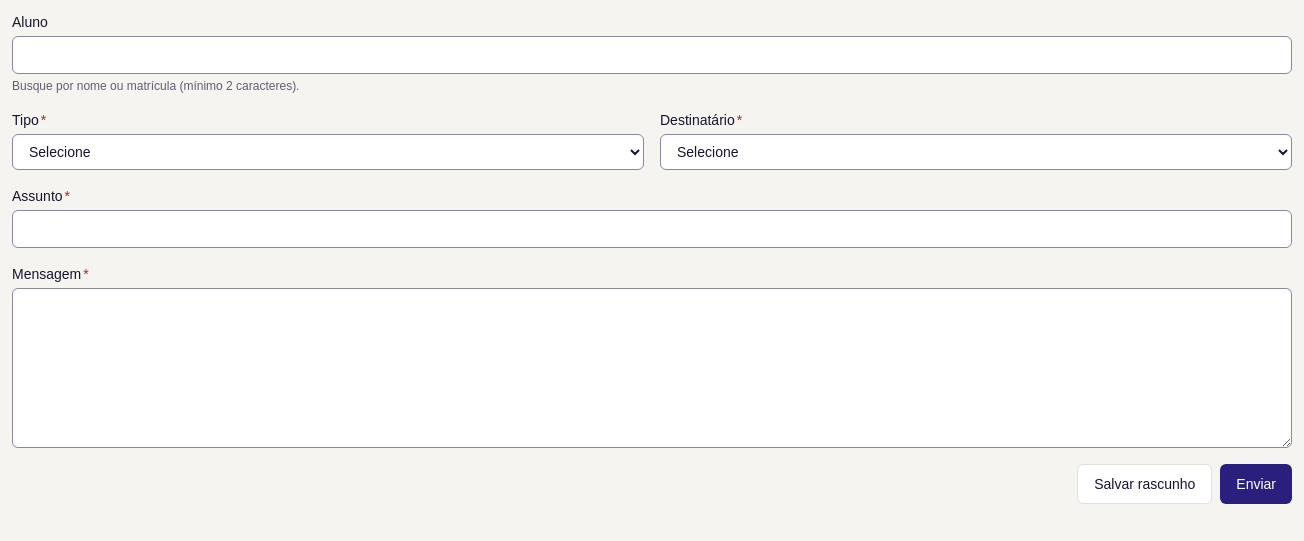
Test: EscreverMensagem › Enviar_sem_destinatario_pede_o_destinatario
The width and height of the screenshot is (1304, 541).
Select "Aviso" in the dropdown labelled "Tipo*" at (328, 152), box [12, 134, 644, 170]
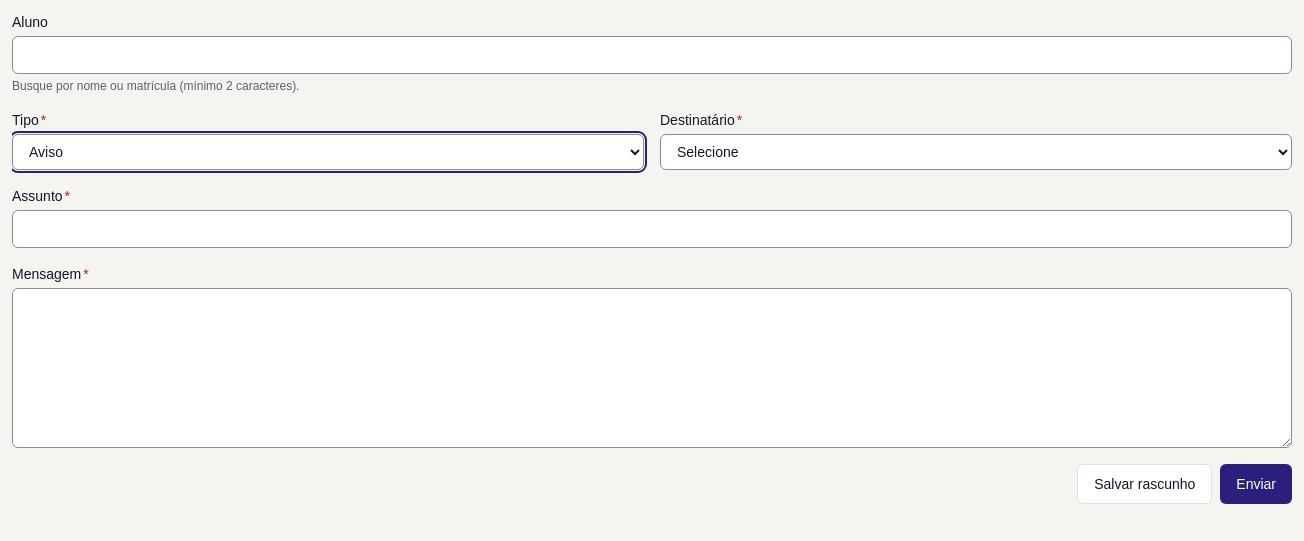
Type "Assunto qualquer" into the field labelled "Assunto*" at (652, 229), box [12, 210, 1292, 248]
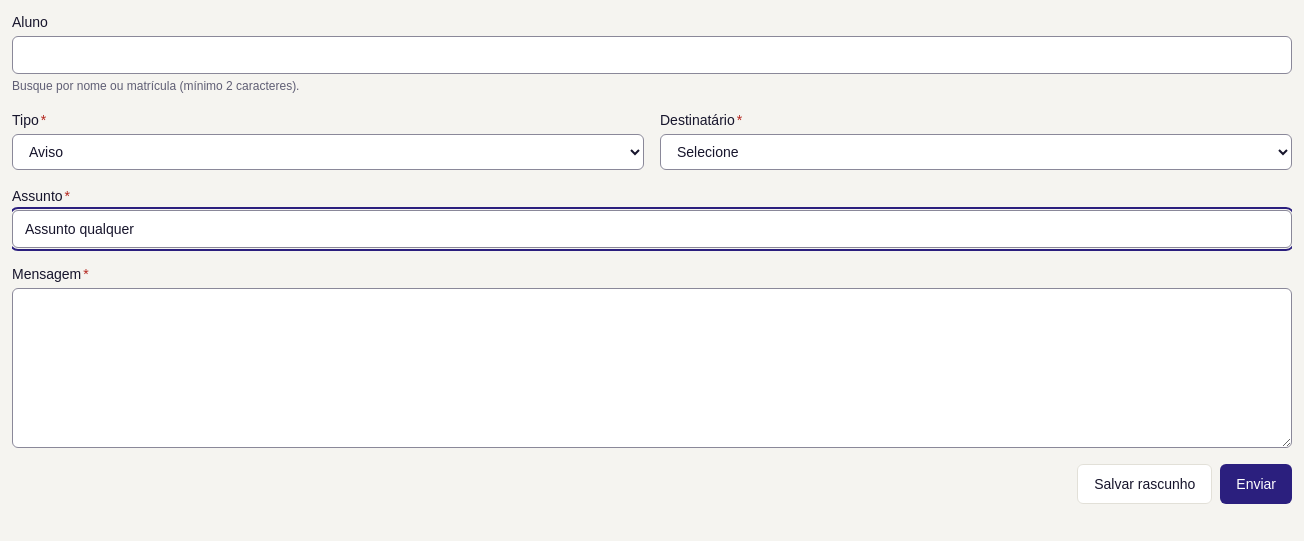
Type "Corpo" into the text box labelled "Mensagem*" at (652, 368), box [12, 288, 1292, 448]
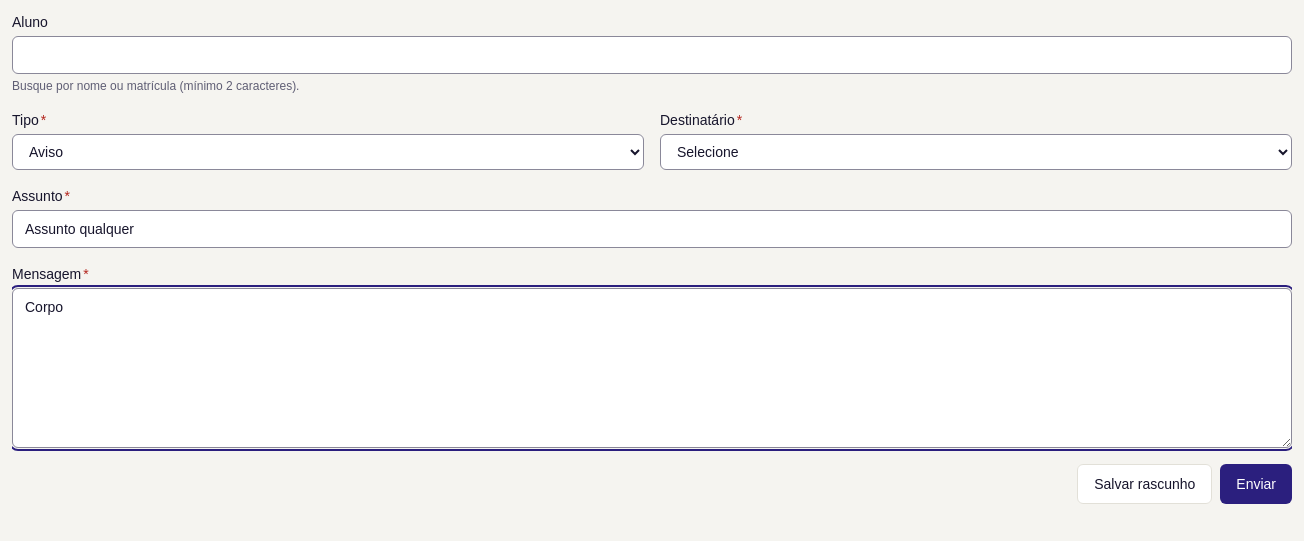
Click the button "Enviar" at (1256, 484), box [1220, 464, 1292, 504]
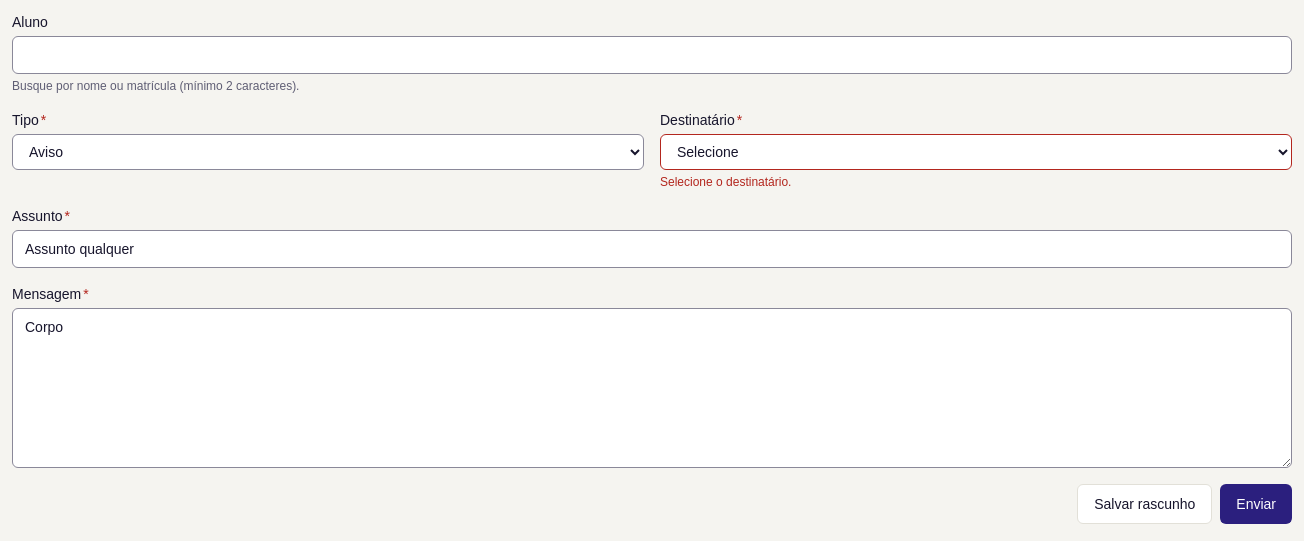
Expected: the text "Selecione o destinatário." is shown, [660, 175, 791, 189]
